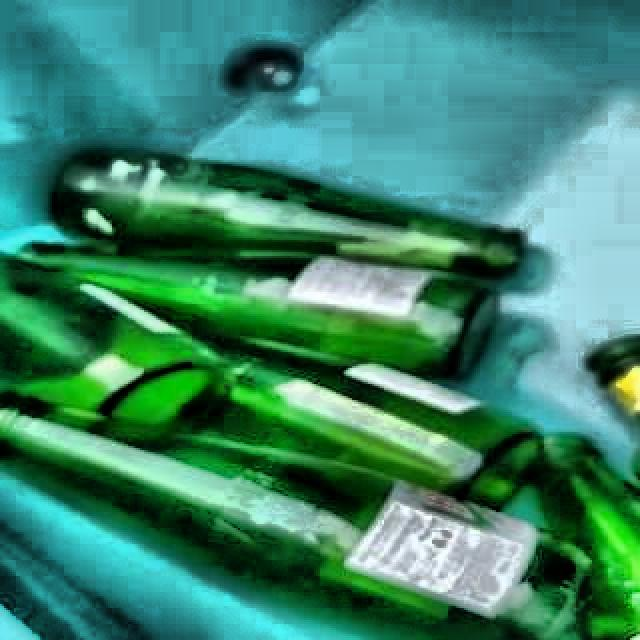glass: (0, 149, 640, 640)
